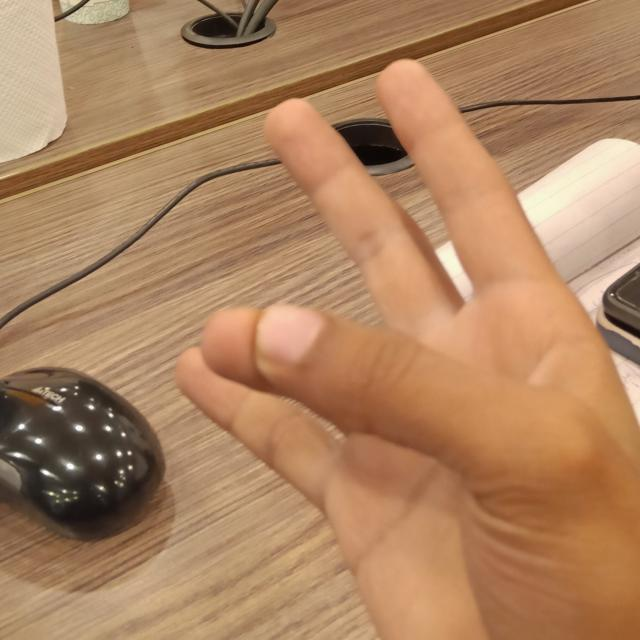Nail: (257, 305, 324, 362)
